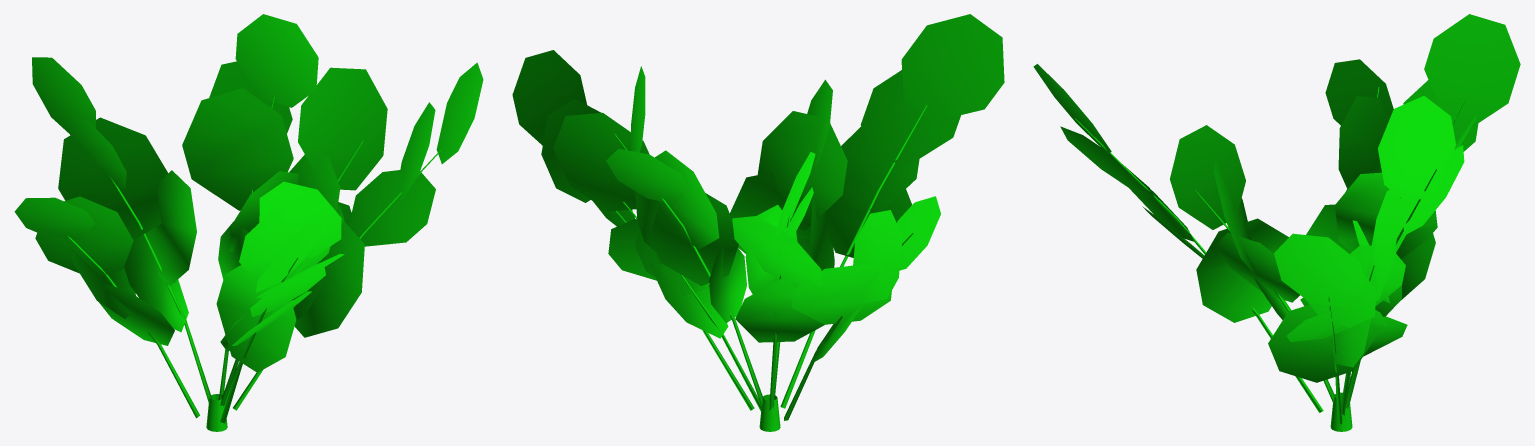
Rendered from shrub_a.glb.
The picture shows the model from 3 angles, left to right: view 1: azimuth 30°, elevation 25°; view 2: azimuth 150°, elevation 25°; view 3: azimuth 270°, elevation 25°; orthographic projection. The views are drawn at different scales.
Parts seen in each view (by area): view 1: shrub_a.1, shrub_a.0; view 2: shrub_a.1, shrub_a.0; view 3: shrub_a.1, shrub_a.0.
Boxes of the visible parts, left/top/right/bottom form: shrub_a.1: left=14, top=14, right=483, bottom=372; shrub_a.0: left=66, top=97, right=441, bottom=431; shrub_a.1: left=512, top=14, right=1004, bottom=363; shrub_a.0: left=614, top=105, right=927, bottom=431; shrub_a.1: left=1033, top=14, right=1520, bottom=382; shrub_a.0: left=1075, top=87, right=1465, bottom=431.
Bounding box in the file's own units: 3.31 × 2.64 × 3.1.
